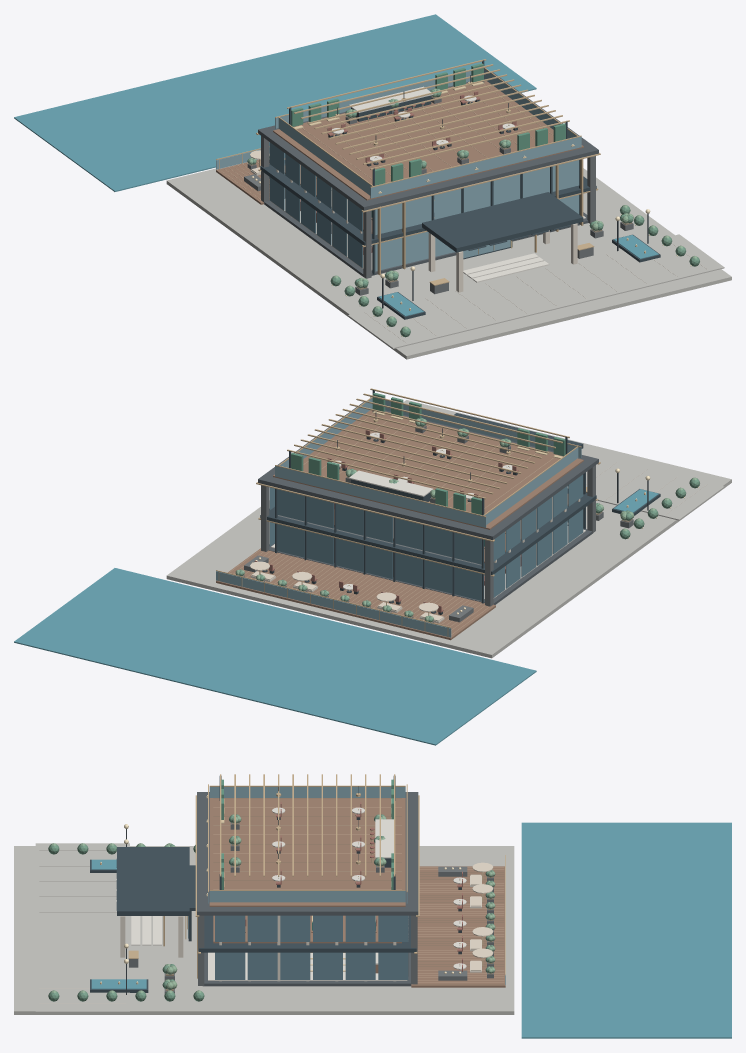
The model's file is steakhouse.glb.
3 views of the same model, one above another, from view 1: azimuth 30°, elevation 25°; view 2: azimuth 150°, elevation 25°; view 3: azimuth 270°, elevation 25° (orthographic). The views are drawn at different scales.
Parts seen in each view (by area): view 1: water, paver, walnut, glass, onyx, bronze, basalt, glassdark, stone, green, marble, foliage (+3 smaller); view 2: water, paver, walnut, glassdark, bronze, glass, onyx, basalt, stone, green, oak, marble (+4 smaller); view 3: water, paver, walnut, glassdark, onyx, basalt, oak, bronze, glass, marble, stone, foliage (+6 smaller).
Boxes of the visible parts, box(x1,y1,x2,y2) form: water: box(14, 14, 658, 316); paver: box(166, 159, 731, 359); walnut: box(216, 81, 583, 233); glass: box(216, 67, 581, 271); onyx: box(260, 60, 660, 319); bronze: box(216, 59, 600, 285); basalt: box(258, 72, 598, 276); glassdark: box(269, 142, 362, 267); stone: box(244, 97, 633, 295); green: box(291, 63, 565, 185); marble: box(271, 86, 585, 282); foliage: box(247, 89, 699, 337); water: box(14, 489, 658, 745); paver: box(166, 400, 731, 658); walnut: box(216, 408, 583, 640); glassdark: box(269, 474, 583, 600); bronze: box(216, 388, 600, 636); glass: box(216, 396, 581, 637); onyx: box(260, 389, 660, 603); basalt: box(258, 402, 598, 604); stone: box(243, 425, 633, 622); green: box(291, 393, 565, 514); oak: box(229, 413, 573, 634); marble: box(271, 432, 585, 599); water: box(91, 822, 731, 1038); paver: box(14, 843, 514, 1014); walnut: box(209, 798, 505, 987); glassdark: box(215, 915, 408, 979); onyx: box(90, 776, 416, 992); basalt: box(197, 792, 418, 986); oak: box(213, 798, 503, 984); bronze: box(128, 774, 505, 978); glass: box(188, 787, 505, 984); marble: box(131, 807, 466, 980); stone: box(129, 822, 493, 993); foliage: box(48, 814, 493, 1001).
Size of the model in its own units: 70 by 17.08 by 99.
